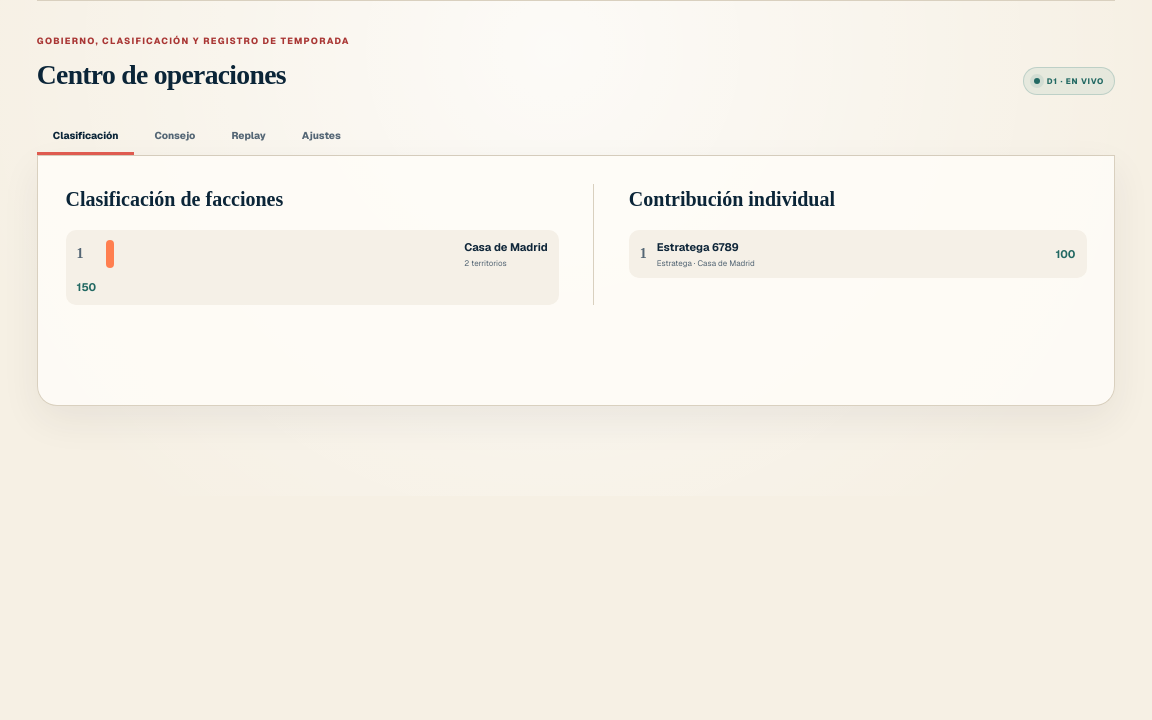
Test: CommunityHub › does not offer a target ballot after the campaign target is locked
This screenshot has width=1152, height=720.
Click the tab "Consejo" at (175, 136), box [138,117,211,155]
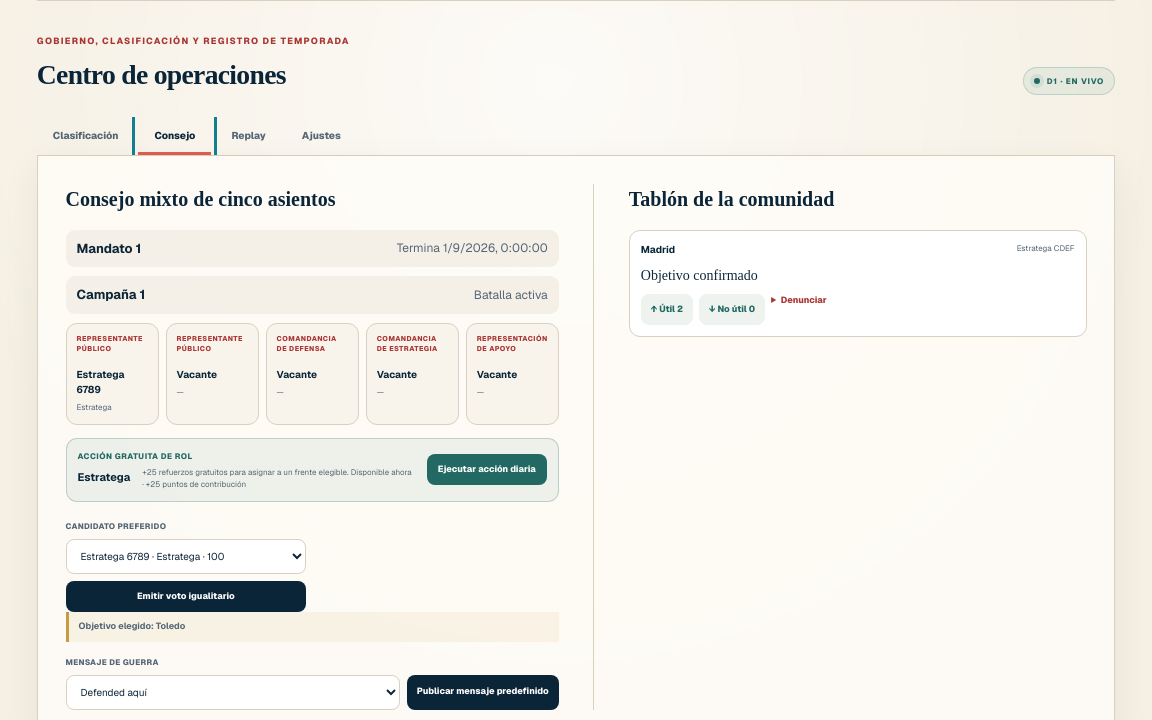
Check: the text "Objetivo elegido: Toledo" is shown, box [66,612,559,642]
